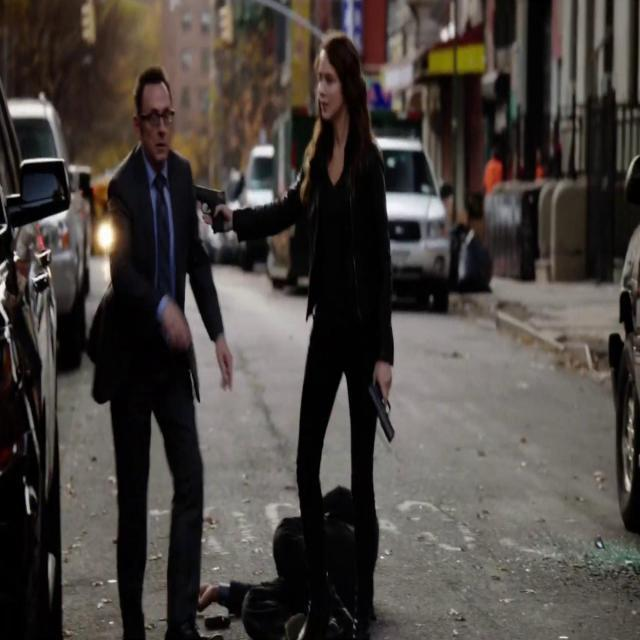pistol: (366, 376, 398, 446), (191, 180, 228, 235)
